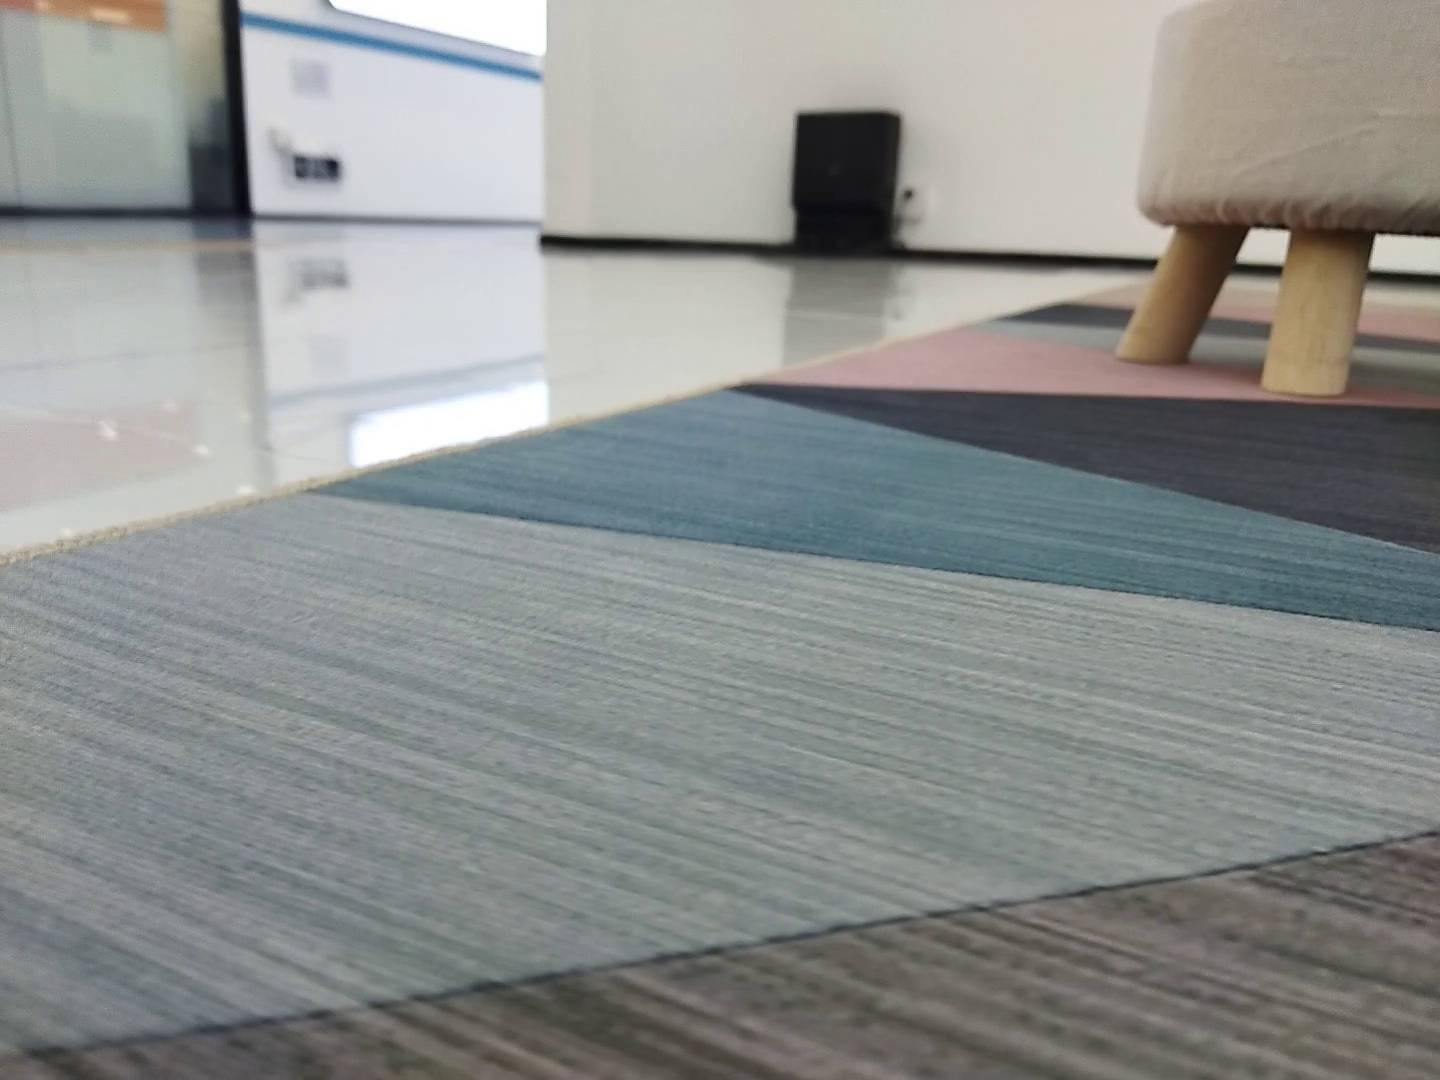dust collecting barrel: (765, 109, 910, 258)
